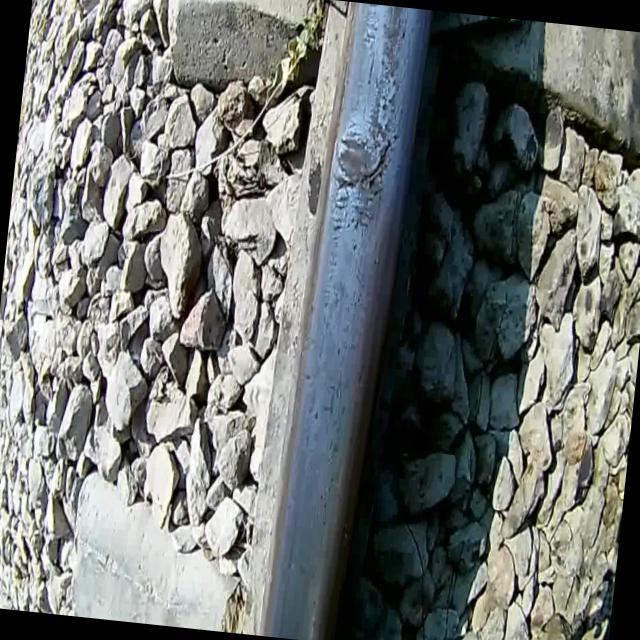Squats: (329, 126, 378, 191), (374, 5, 408, 78)
